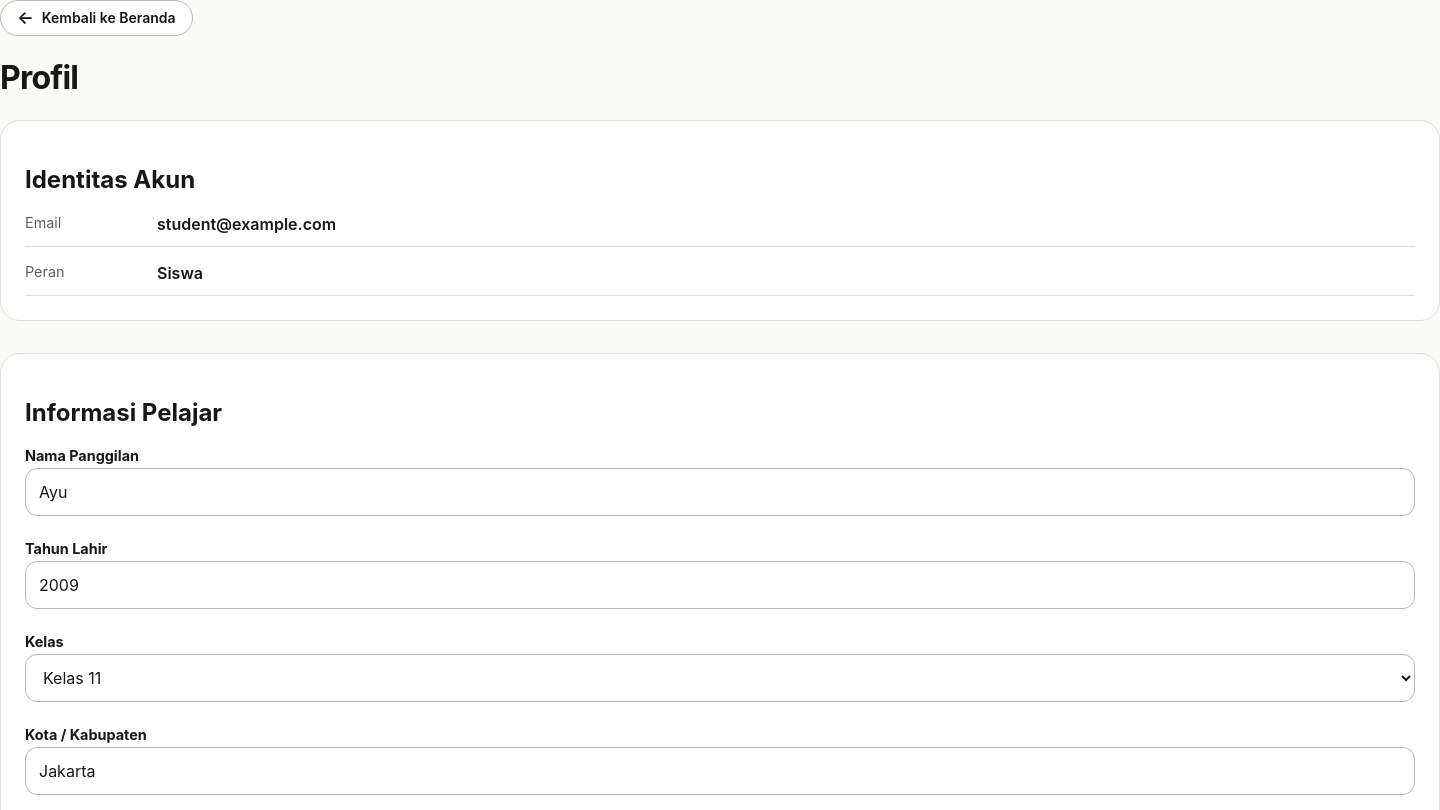
Scenario: ProfilePage › submits valid partial update and displays success acknowledgement
Replace the text in the field labelled "Nama Panggilan" with "Ayu Maya": (720, 492) [25, 468, 1415, 516]
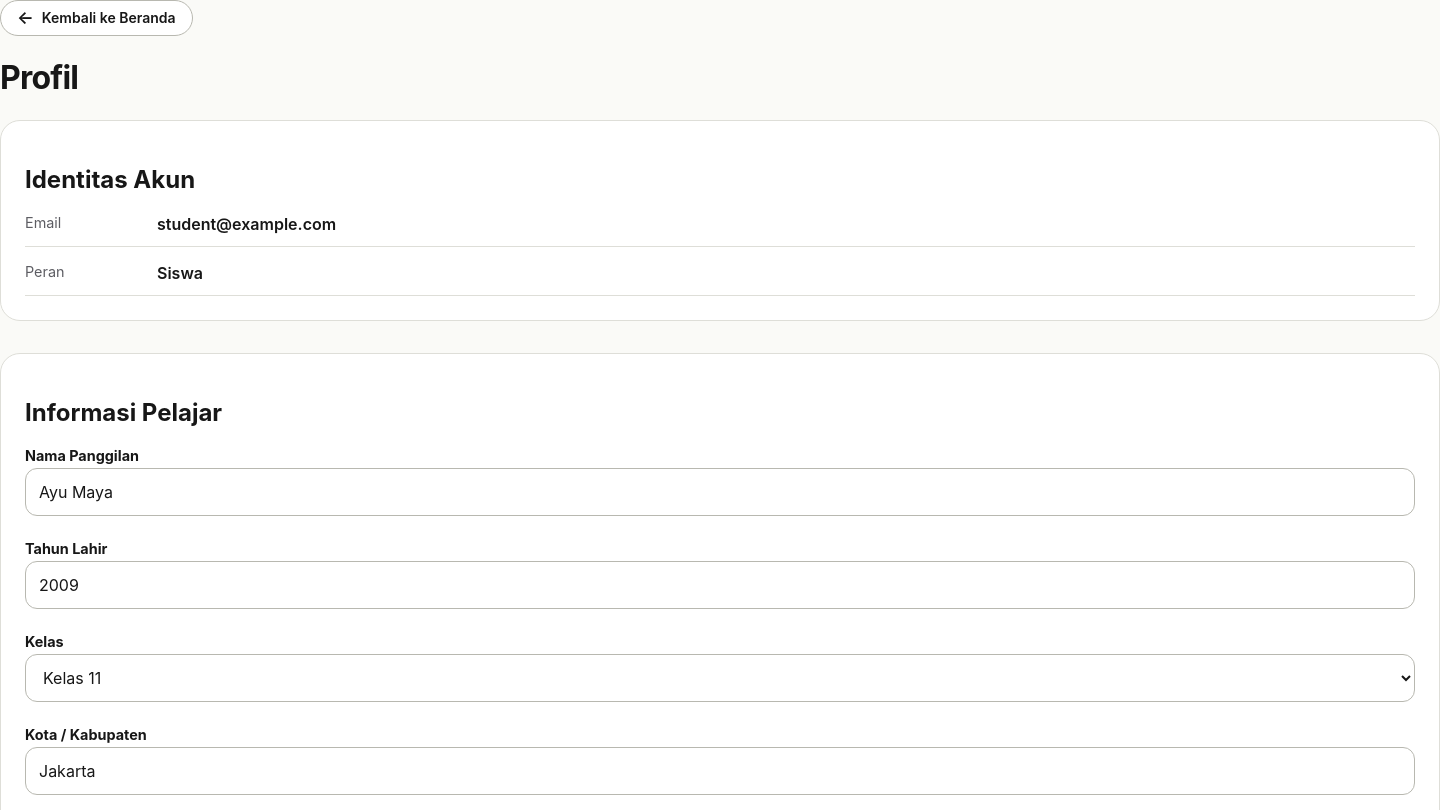
Replace the text in the field labelled "Kota / Kabupaten" with "Bandung": (720, 771) [25, 747, 1415, 795]
(page scrolled)
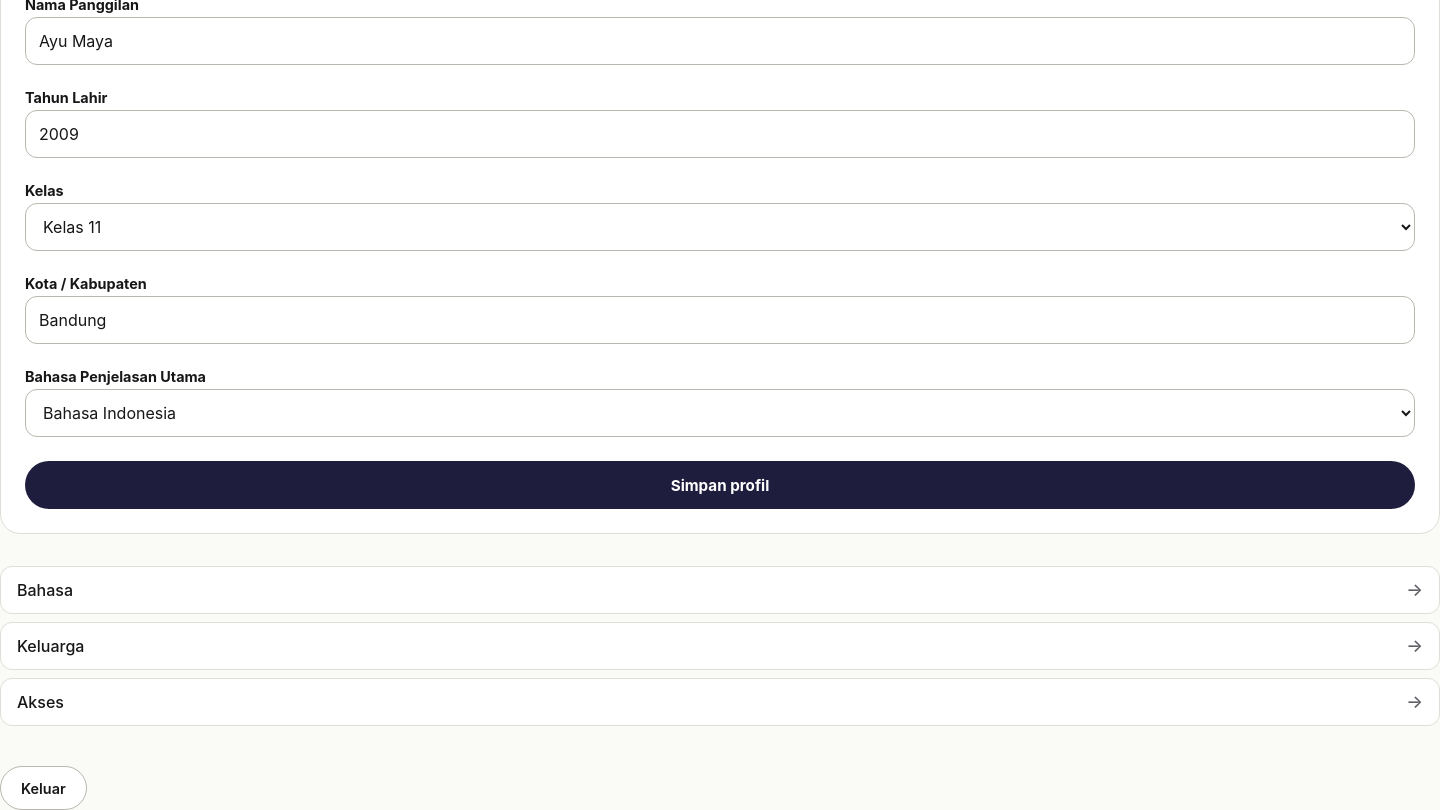
Click the button "Simpan profil": (720, 485) [25, 461, 1415, 509]
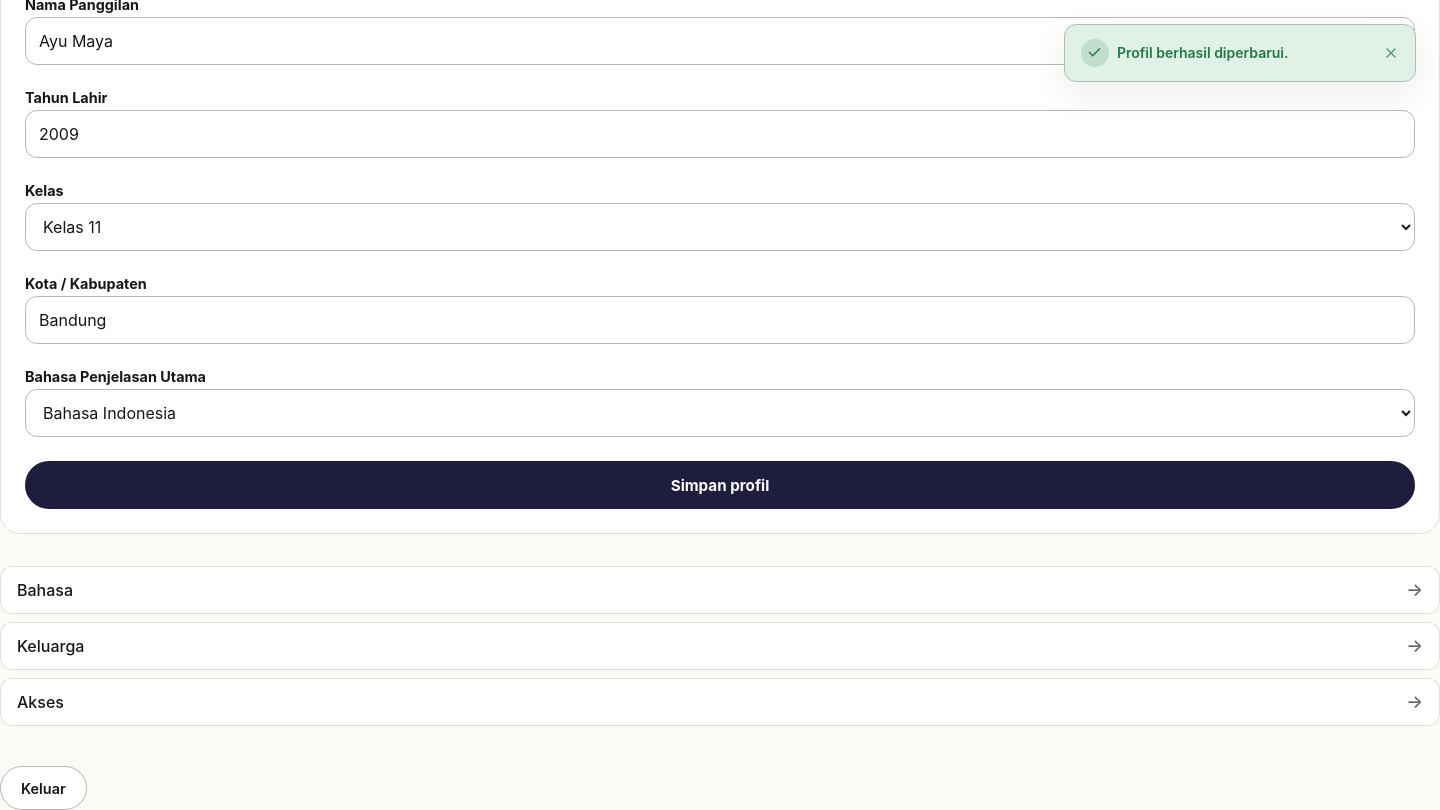
Check: the text "Profil berhasil diperbarui." is shown, box [1117, 44, 1288, 61]
